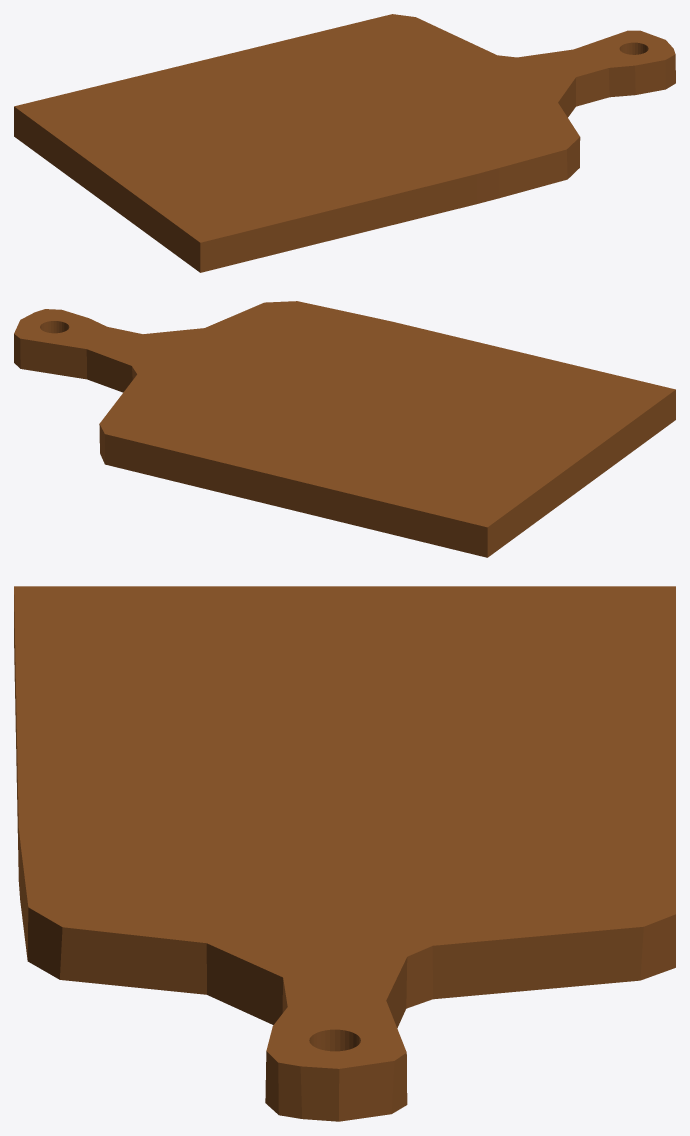
Rendered from CuttingBoardfbx.fbx.
3 renders of one model, top to bottom at view 1: azimuth 30°, elevation 25°; view 2: azimuth 150°, elevation 25°; view 3: azimuth 270°, elevation 25°, orthographic. The views are drawn at different scales.
Parts seen in each view (by area): view 1: cutting board; view 2: cutting board; view 3: cutting board.
Boxes of the visible parts, x1,y1,x2,y2 form: cutting board: (14,14,675,272); cutting board: (14,301,675,557); cutting board: (14,586,675,1121).
Bounding box in the file's own units: 8.86 × 0.4578 × 5.13.
